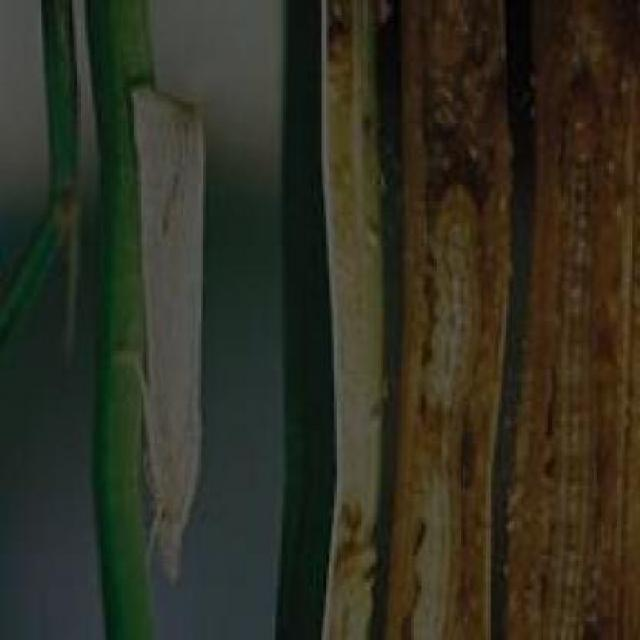stem-borer: (108, 69, 209, 591)
